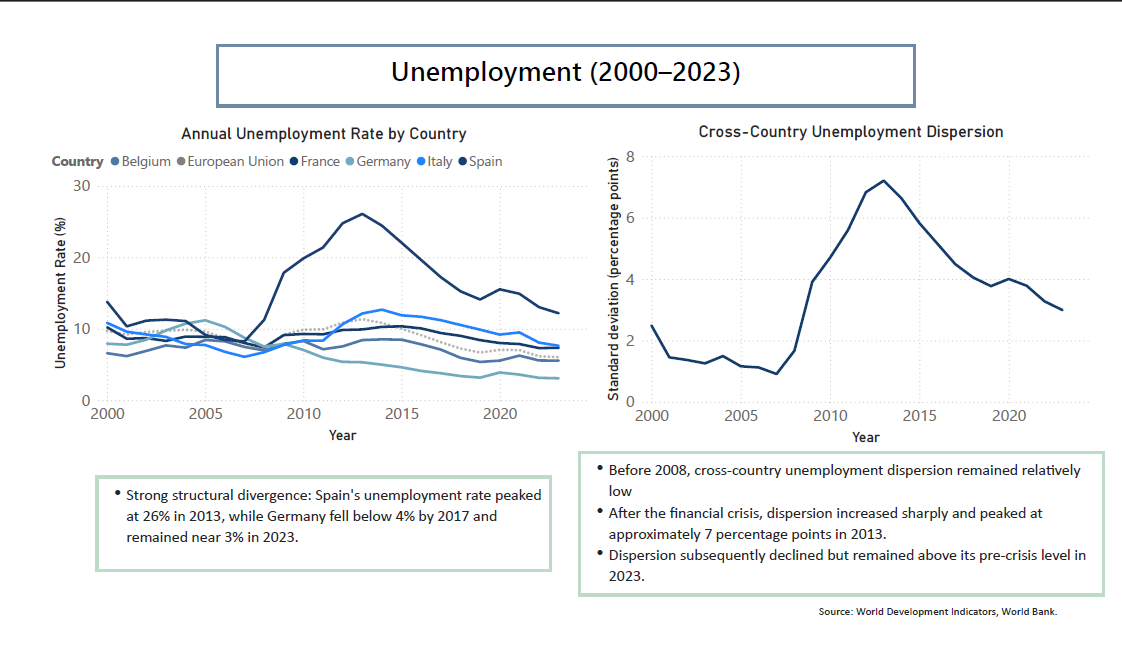

The dashboard page shown, as its layout file describes it:
{"tool":"powerbi","page":{"name":"Unemployment","canvas":[1280,720],"ordinal":3},"visuals":[{"type":"textbox","box":[230.6,26.5,825.8,73.7],"z":0},{"type":"lineChart","title":"Annual Unemployment Rate by Country","fields":{"Category":["API_SL UEM TOTL ZS_DS2_en_csv_v2_33398.Year"],"Series":["API_SL UEM TOTL ZS_DS2_en_csv_v2_33398.Country"],"Y":["API_SL UEM TOTL ZS_DS2_en_csv_v2_33398.Avg Unemployment"]},"box":[31.8,119.6,652.6,381.6],"z":1000},{"type":"textbox","box":[89.3,534.5,537.5,113.6],"z":2000},{"type":"lineChart","title":"Cross-Country Unemployment Dispersion","fields":{"Category":["API_SL UEM TOTL ZS_DS2_en_csv_v2_33398.Year"],"Y":["API_SL UEM TOTL ZS_DS2_en_csv_v2_33398.Unemployment Dispersion"]},"box":[684.1,117.2,591.5,385.5],"z":3000},{"type":"textbox","box":[657.6,506.5,621.7,170.1],"z":4000},{"type":"textbox","box":[937.3,680.3,342,39.7],"z":5000}]}

Visuals, with their boxes on the page's 1280x720 design canvas (x1, y1, x2, y2). These are canvas units, not pixel positions in the 1122x652 screenshot, which may show the page scaled, cropped or inside an application window:
textbox: {"x1": 231, "y1": 26, "x2": 1056, "y2": 100}
"Annual Unemployment Rate by Country" lineChart: {"x1": 32, "y1": 120, "x2": 684, "y2": 501}
textbox: {"x1": 89, "y1": 534, "x2": 627, "y2": 648}
"Cross-Country Unemployment Dispersion" lineChart: {"x1": 684, "y1": 117, "x2": 1276, "y2": 503}
textbox: {"x1": 658, "y1": 506, "x2": 1279, "y2": 677}
textbox: {"x1": 937, "y1": 680, "x2": 1279, "y2": 720}
